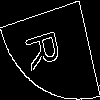R: (24, 25, 68, 72)
